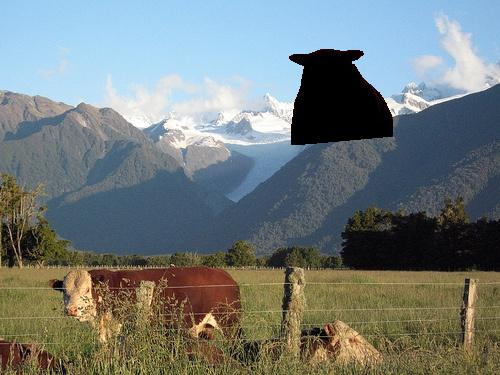tampered: (290, 50, 393, 145)
